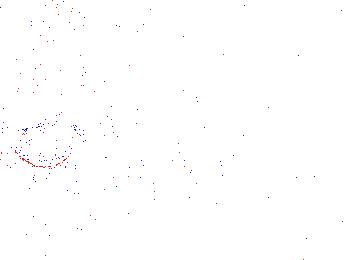moon jellyfish: (46, 2, 165, 87), (182, 1, 269, 78), (3, 40, 68, 134)
